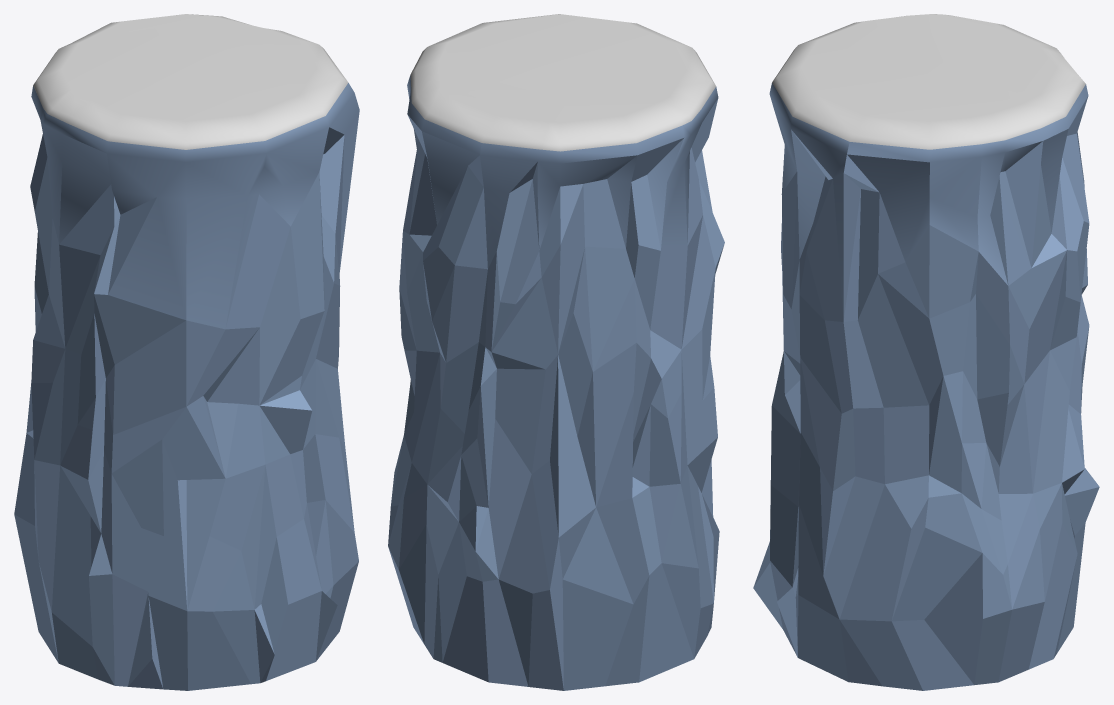
Rendered from IcePillar.fbx.
3 views of the same model, side by side, from view 1: azimuth 30°, elevation 25°; view 2: azimuth 150°, elevation 25°; view 3: azimuth 270°, elevation 25° (orthographic).
Parts seen in each view (by area): view 1: pCylinder37; view 2: pCylinder37; view 3: pCylinder37.
Boxes of the visible parts, box(x1,y1,x2,y2) form: pCylinder37: box(14, 14, 359, 690); pCylinder37: box(388, 14, 724, 690); pCylinder37: box(753, 14, 1099, 690).
Bounding box in the file's own units: 12.12 × 22.6 × 12.66.
